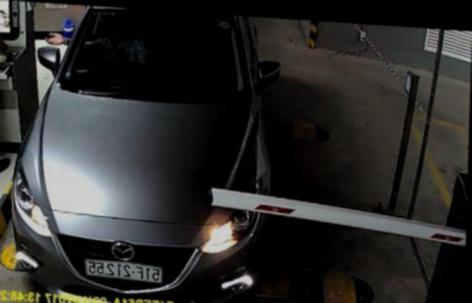License_Plate: (80, 253, 167, 286)
